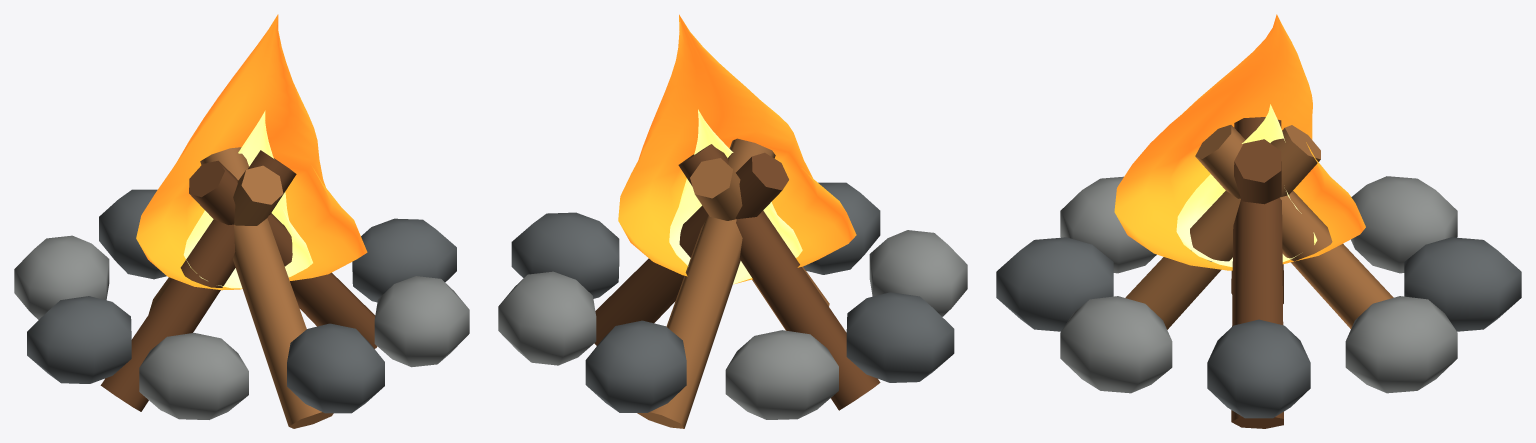
Rendered from Campfire.glb.
3 views of the same model, side by side, from view 1: azimuth 30°, elevation 25°; view 2: azimuth 150°, elevation 25°; view 3: azimuth 270°, elevation 25° (orthographic). The views are drawn at different scales.
Visible parts, largest first — view 1: Body, Flame, FlameCore; view 2: Body, Flame, FlameCore; view 3: Body, Flame, FlameCore.
Boxes of the visible parts, x1,y1,x2,y2 form: Body: (14, 147, 469, 428); Flame: (136, 14, 367, 290); FlameCore: (183, 110, 312, 288); Body: (498, 138, 967, 428); Flame: (618, 14, 856, 283); FlameCore: (669, 109, 802, 284); Body: (996, 117, 1521, 428); Flame: (1114, 14, 1365, 270); FlameCore: (1176, 104, 1317, 267).
Size of the model in its own units: 3.32 by 2.73 by 3.4.
3 materials, 1 textured.
